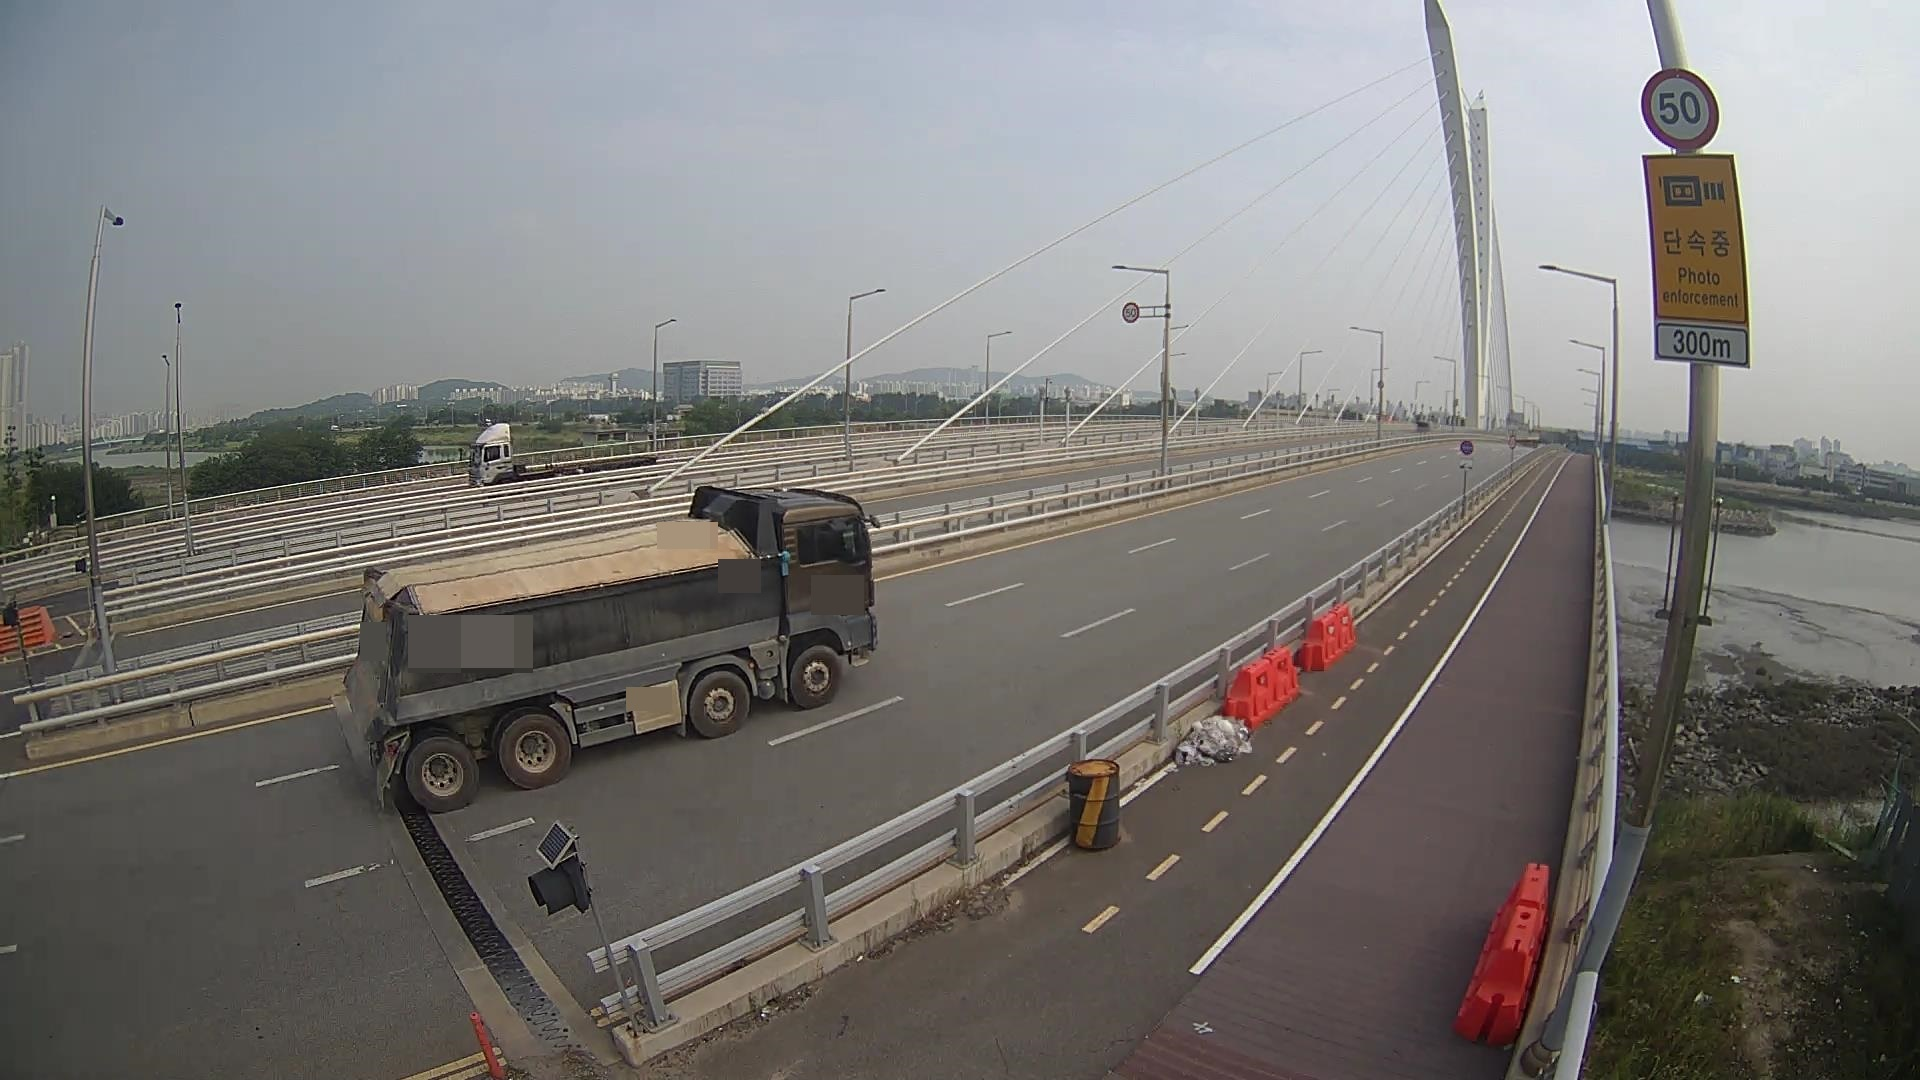정상차량: (343, 486, 880, 815)
